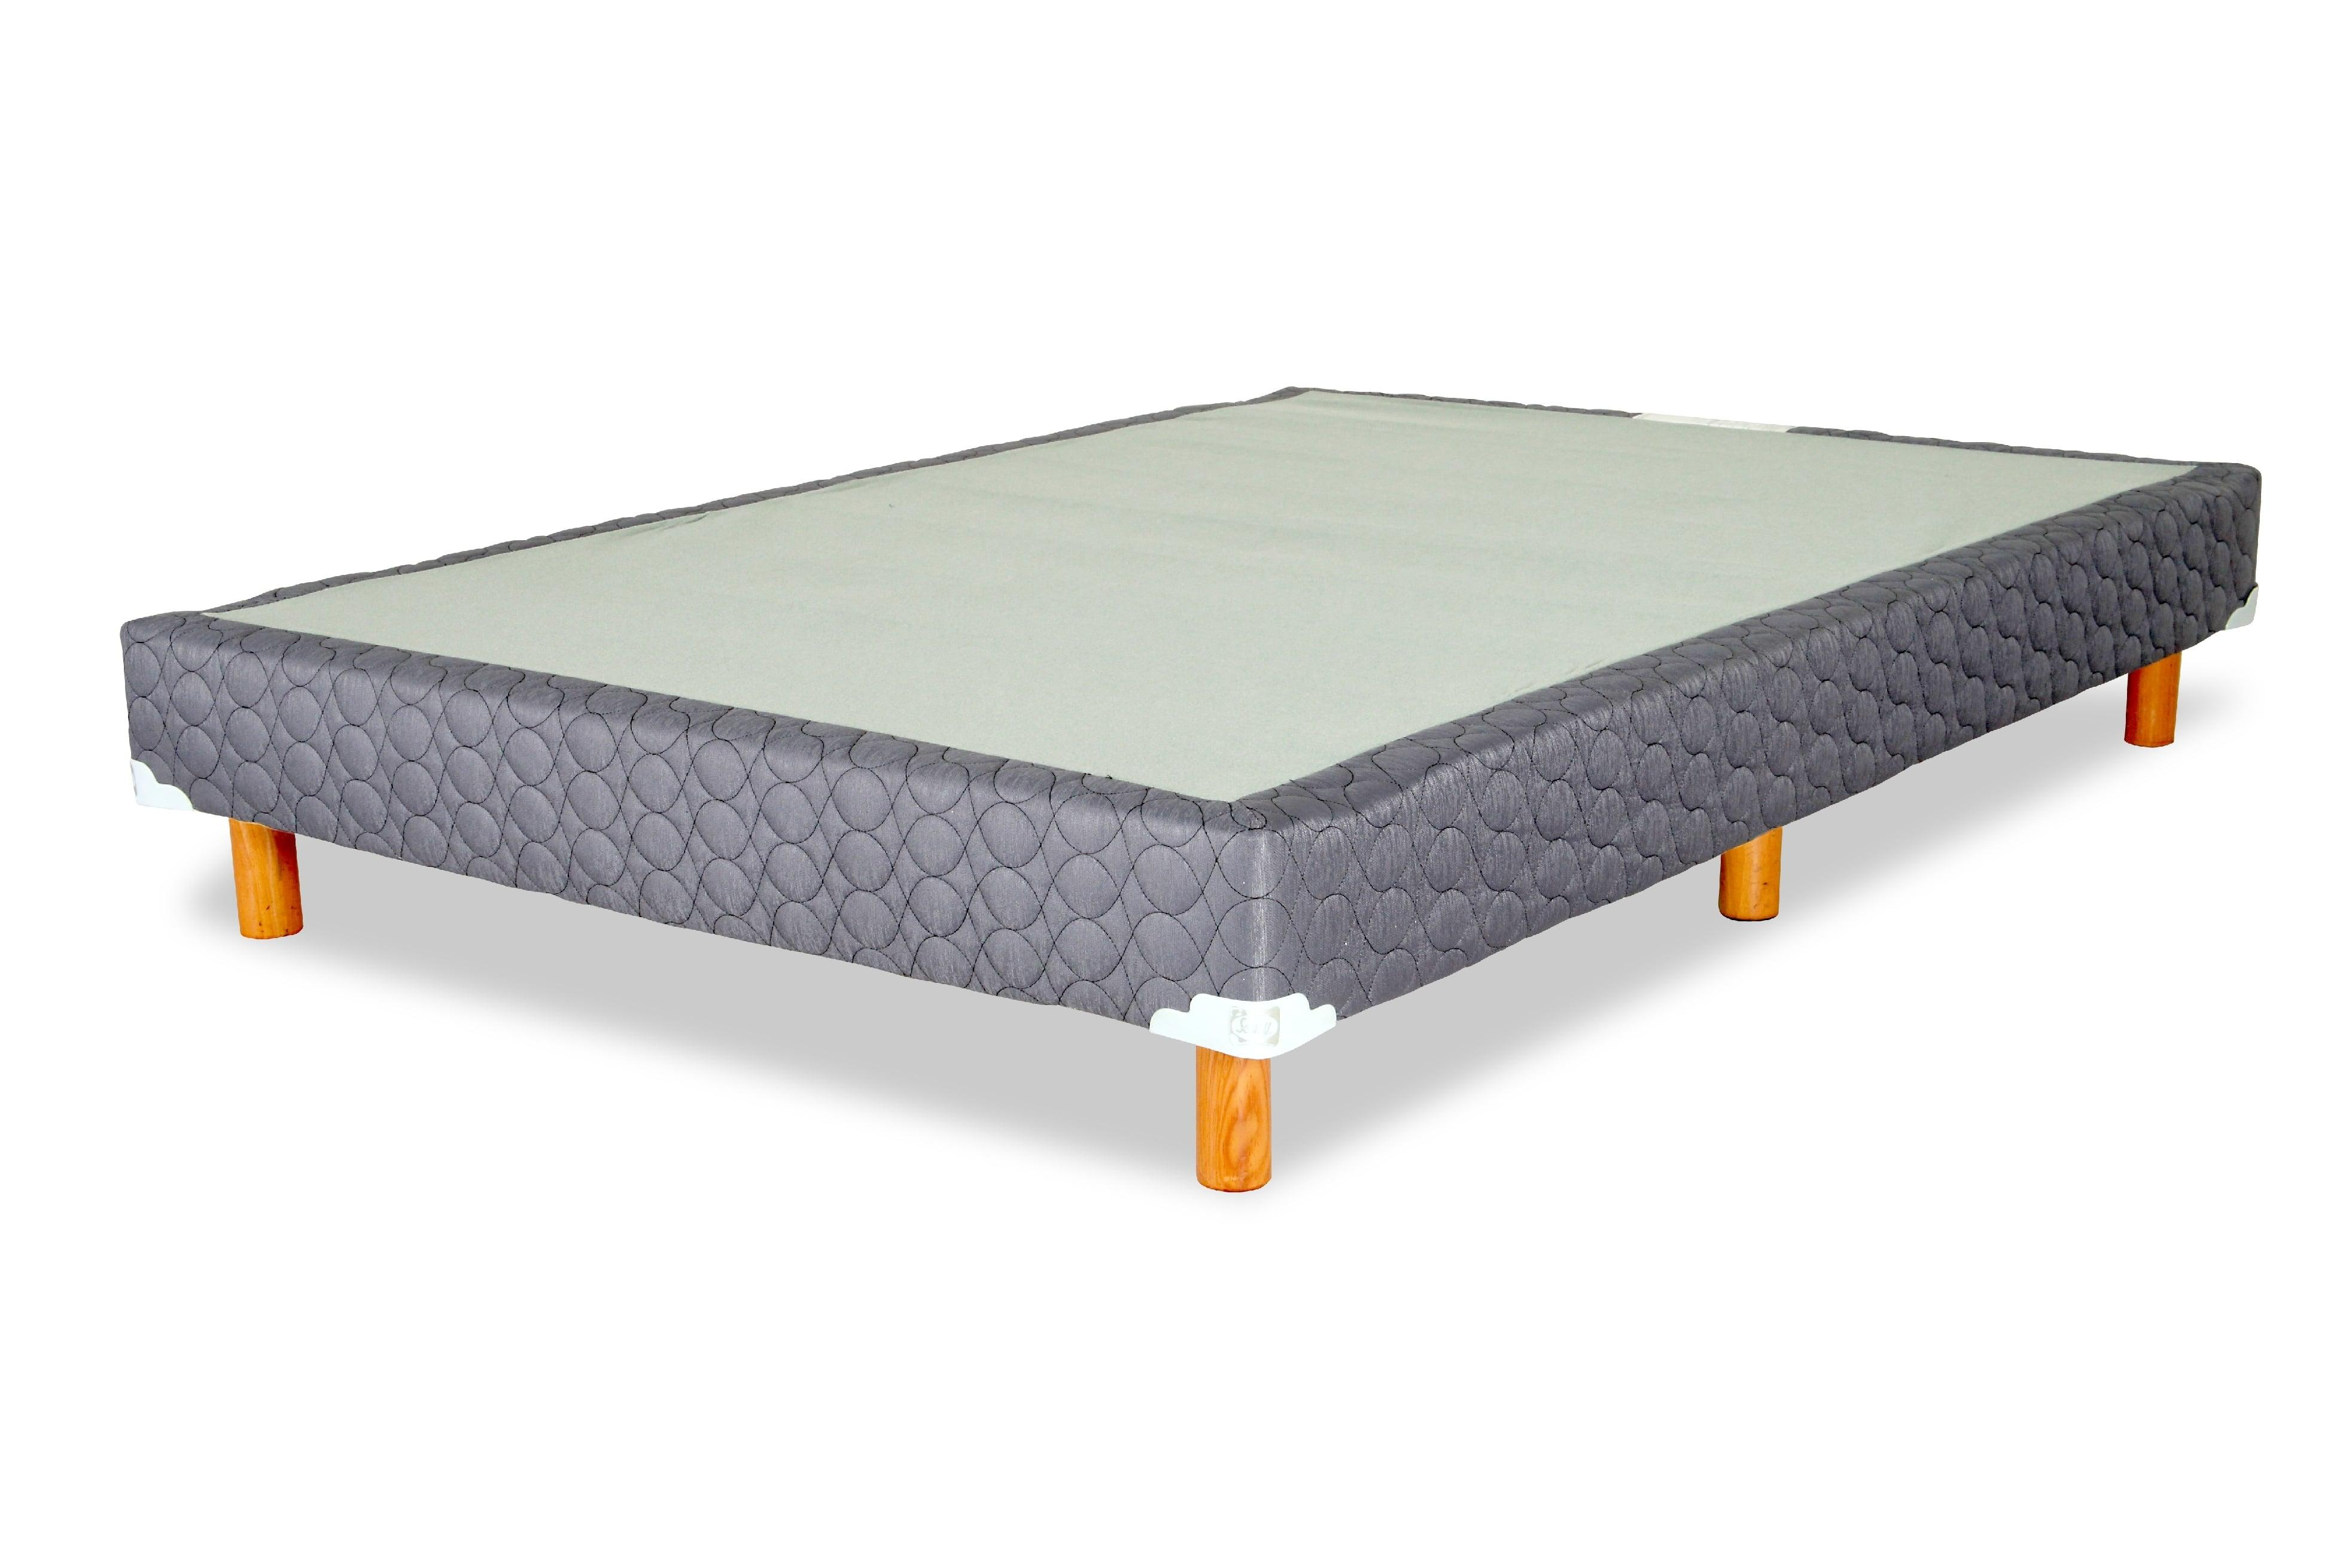bed: (0, 215, 2352, 1172)
